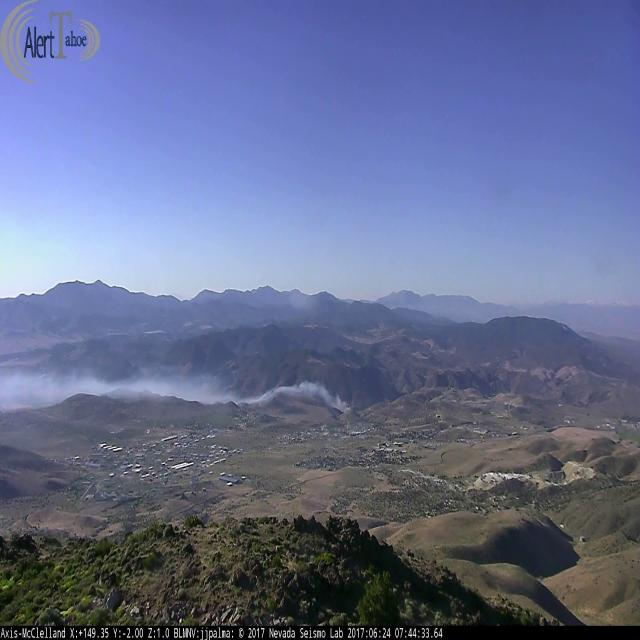smoke: (1, 366, 356, 420)
